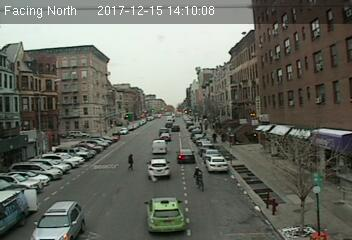bicycle: (192, 165, 205, 193)
car: (28, 201, 85, 240), (143, 197, 186, 231), (145, 158, 172, 179), (205, 156, 229, 173), (176, 149, 195, 163), (171, 124, 180, 132), (160, 133, 170, 140)
truck: (1, 190, 27, 235), (152, 139, 167, 153)
